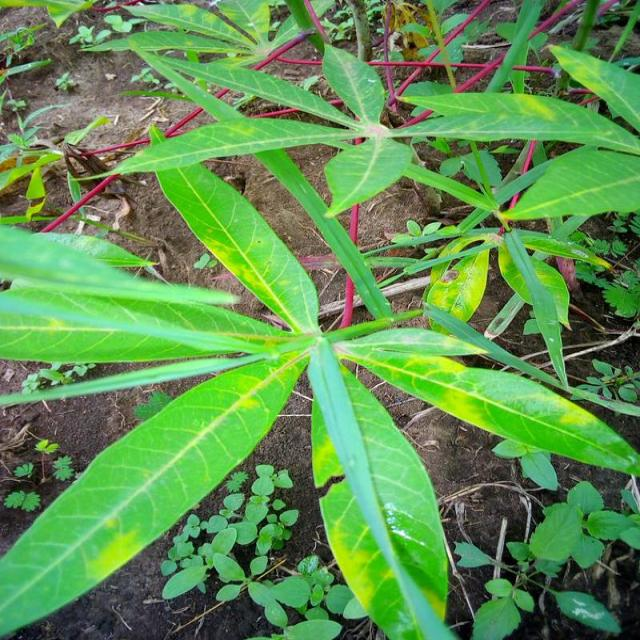cassava leaf: (0, 2, 638, 637), (0, 338, 310, 637), (331, 325, 639, 480), (310, 343, 450, 638)
